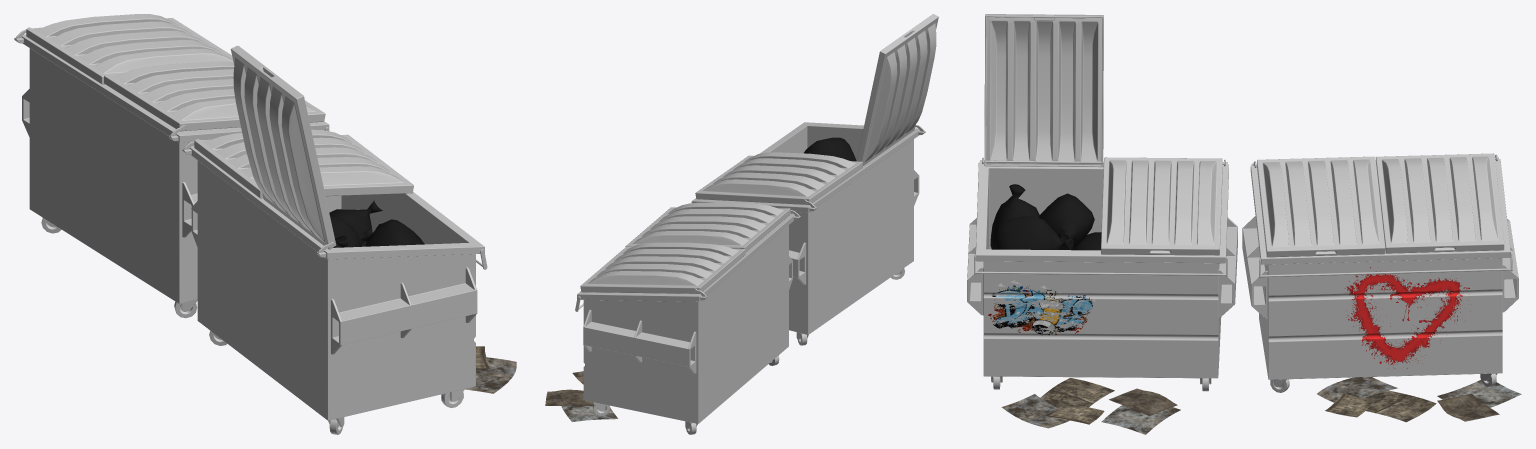
Rendered from trash_1.fbx.
The picture shows the model from 3 angles, left to right: view 1: azimuth 30°, elevation 25°; view 2: azimuth 150°, elevation 25°; view 3: azimuth 270°, elevation 25°; orthographic projection. The views are drawn at different scales.
Visible parts, largest first — view 1: dumpster_open, dumpster_closed, trash_bags, papers; view 2: dumpster_closed, dumpster_open, papers, trash_bags; view 3: dumpster_open, dumpster_closed, papers, trash_bags.
Boxes of the visible parts, <box> form: dumpster_open: <box>182,45,487,434</box>; dumpster_closed: <box>14,14,329,318</box>; trash_bags: <box>329,200,424,247</box>; papers: <box>465,346,516,393</box>; dumpster_closed: <box>575,202,800,434</box>; dumpster_open: <box>691,14,938,345</box>; papers: <box>545,371,618,421</box>; trash_bags: <box>804,137,856,161</box>; dumpster_open: <box>967,14,1237,391</box>; dumpster_closed: <box>1242,153,1518,392</box>; papers: <box>1001,377,1521,434</box>; trash_bags: <box>990,184,1101,250</box>.
Bounding box in the file's own units: 196 × 242 × 396.
